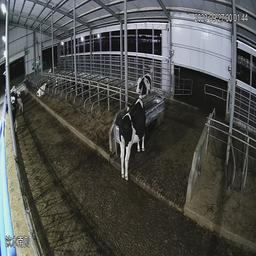cow: (118, 98, 148, 182), (3, 90, 21, 135), (132, 72, 153, 103), (36, 82, 50, 99), (23, 78, 29, 97)
